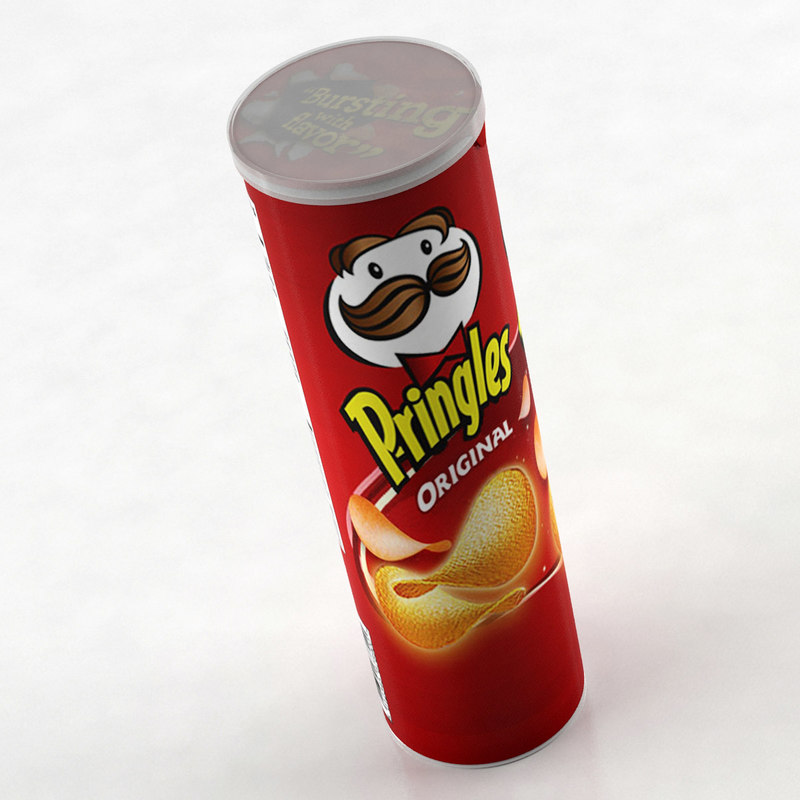pringle: (209, 29, 594, 778)
